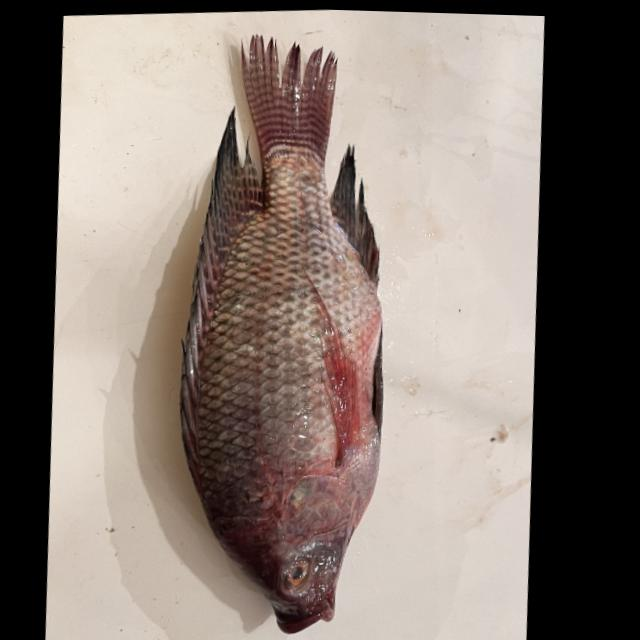Tilapia: (139, 27, 424, 640)
